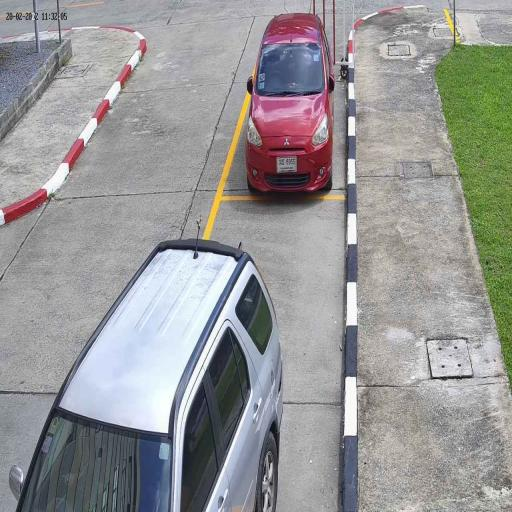car: (17, 235, 285, 512), (245, 12, 335, 198)
